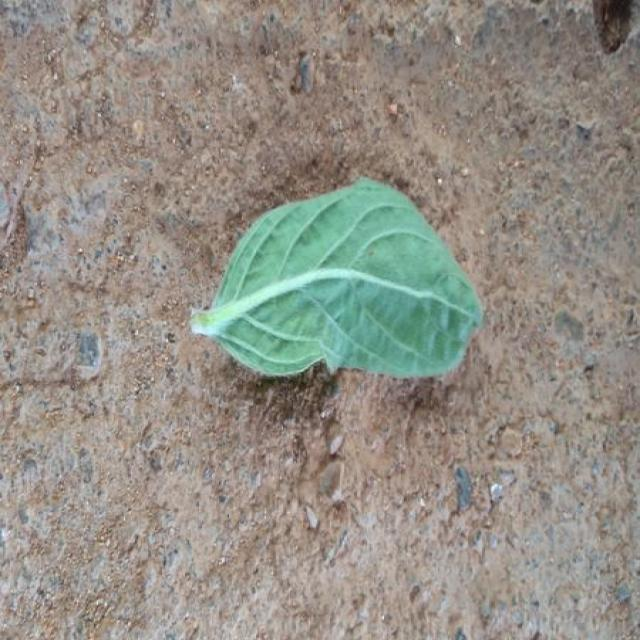globe amarnath: (192, 179, 482, 376)
